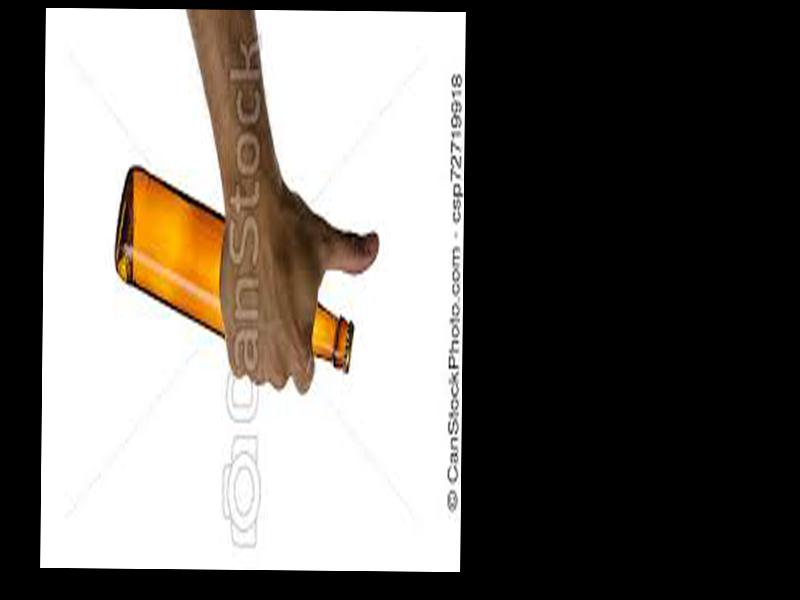Beer: (114, 164, 353, 370)
